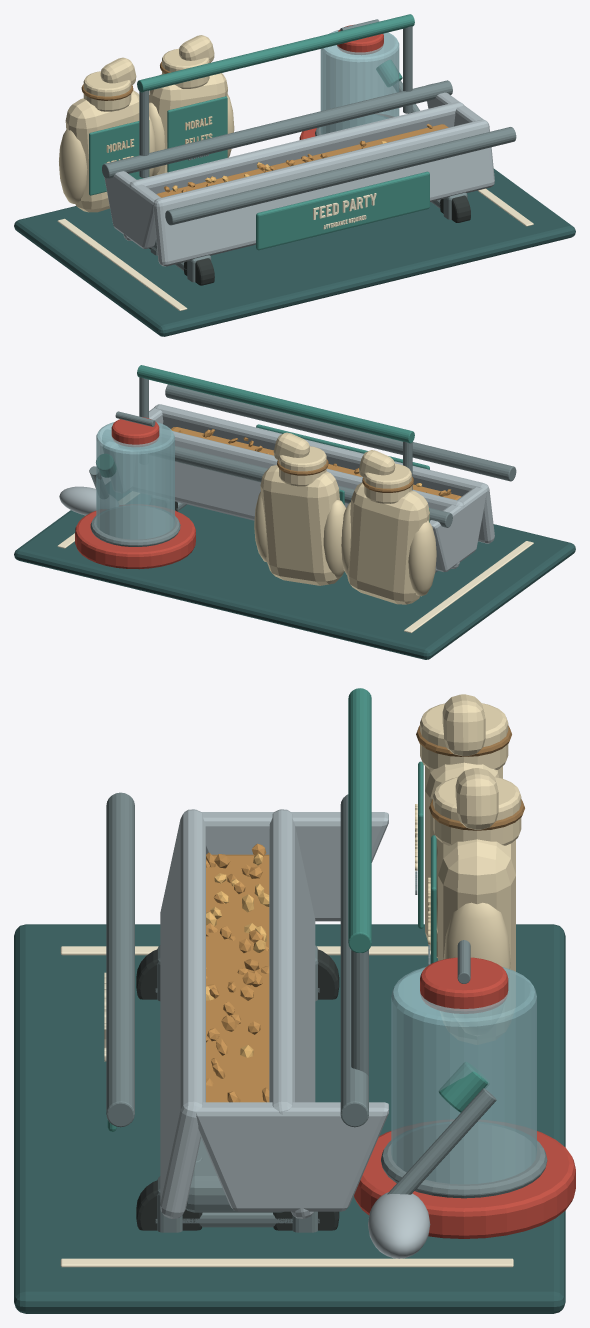
File: feed_party_station.glb
3 renders of one model, top to bottom at view 1: azimuth 30°, elevation 25°; view 2: azimuth 150°, elevation 25°; view 3: azimuth 270°, elevation 25°, orthographic. The views are drawn at different scales.
Visible parts, largest first — view 1: FeedParty_RubberMat, Trough_WallFront, Trough_CompliancePlaque, Trough_WallBack, Trough_Rim_Front, Trough_Rim_Back, Waterer_Reservoir, TroughPushHandleGrip, Trough_EndCap_L, FeedSack_B_GreenLabel, FeedSack_A_Sack, FeedSack_A_GreenLabel (+20 smaller); view 2: FeedParty_RubberMat, Waterer_Reservoir, FeedSack_A_Sack, FeedSack_B_Sack, Trough_WallBack, Trough_Rim_Front, Trough_WallFront, TroughPushHandleGrip, Waterer_Tray, Waterer_TrayInset, Trough_EndCap_L, Trough_Rim_Back (+14 smaller); view 3: FeedParty_RubberMat, Waterer_Reservoir, Trough_EndCap_R, Trough_WallFront, Trough_WallBack, Trough_FeedBed, Trough_Rim_Front, Waterer_Tray, Waterer_TrayInset, Trough_EndCap_L, TroughPushHandleGrip, FeedSack_B_Sack (+21 smaller).
Part boxes in pixels (left/top/right/bottom): FeedParty_RubberMat: left=14, top=168, right=575, bottom=336; Trough_WallFront: left=153, top=119, right=494, bottom=266; Trough_CompliancePlaque: left=256, top=171, right=429, bottom=250; Trough_WallBack: left=123, top=101, right=463, bottom=240; Trough_Rim_Front: left=165, top=127, right=516, bottom=225; Trough_Rim_Back: left=102, top=80, right=452, bottom=178; Waterer_Reservoir: left=320, top=29, right=399, bottom=134; TroughPushHandleGrip: left=137, top=14, right=414, bottom=92; Trough_EndCap_L: left=104, top=162, right=160, bottom=248; FeedSack_B_GreenLabel: left=167, top=96, right=227, bottom=172; FeedSack_A_Sack: left=65, top=90, right=139, bottom=212; FeedSack_A_GreenLabel: left=89, top=120, right=149, bottom=195; FeedParty_RubberMat: left=14, top=504, right=575, bottom=659; Waterer_Reservoir: left=96, top=422, right=174, bottom=539; FeedSack_A_Sack: left=347, top=482, right=429, bottom=604; FeedSack_B_Sack: left=260, top=465, right=340, bottom=585; Trough_WallBack: left=172, top=431, right=464, bottom=568; Trough_Rim_Front: left=165, top=384, right=516, bottom=481; Trough_WallFront: left=154, top=404, right=494, bottom=543; TroughPushHandleGrip: left=137, top=365, right=414, bottom=443; Waterer_Tray: left=75, top=510, right=195, bottom=569; Waterer_TrayInset: left=90, top=506, right=180, bottom=546; Trough_EndCap_L: left=430, top=487, right=487, bottom=571; Trough_Rim_Back: left=175, top=445, right=452, bottom=527; FeedParty_RubberMat: left=14, top=924, right=565, bottom=1313; Waterer_Reservoir: left=391, top=966, right=536, bottom=1184; Trough_EndCap_R: left=196, top=1102, right=388, bottom=1211; Trough_WallFront: left=160, top=809, right=205, bottom=1218; Trough_WallBack: left=269, top=809, right=315, bottom=1218; Trough_FeedBed: left=206, top=854, right=269, bottom=1102; Trough_Rim_Front: left=106, top=792, right=134, bottom=1127; Waterer_Tray: left=354, top=1131, right=575, bottom=1238; Waterer_TrayInset: left=381, top=1123, right=547, bottom=1198; Trough_EndCap_L: left=201, top=812, right=388, bottom=921; TroughPushHandleGrip: left=348, top=688, right=371, bottom=952; FeedSack_B_Sack: left=438, top=839, right=515, bottom=971.
Bounding box in the file's own units: 3.42 × 1.35 × 2.16.
